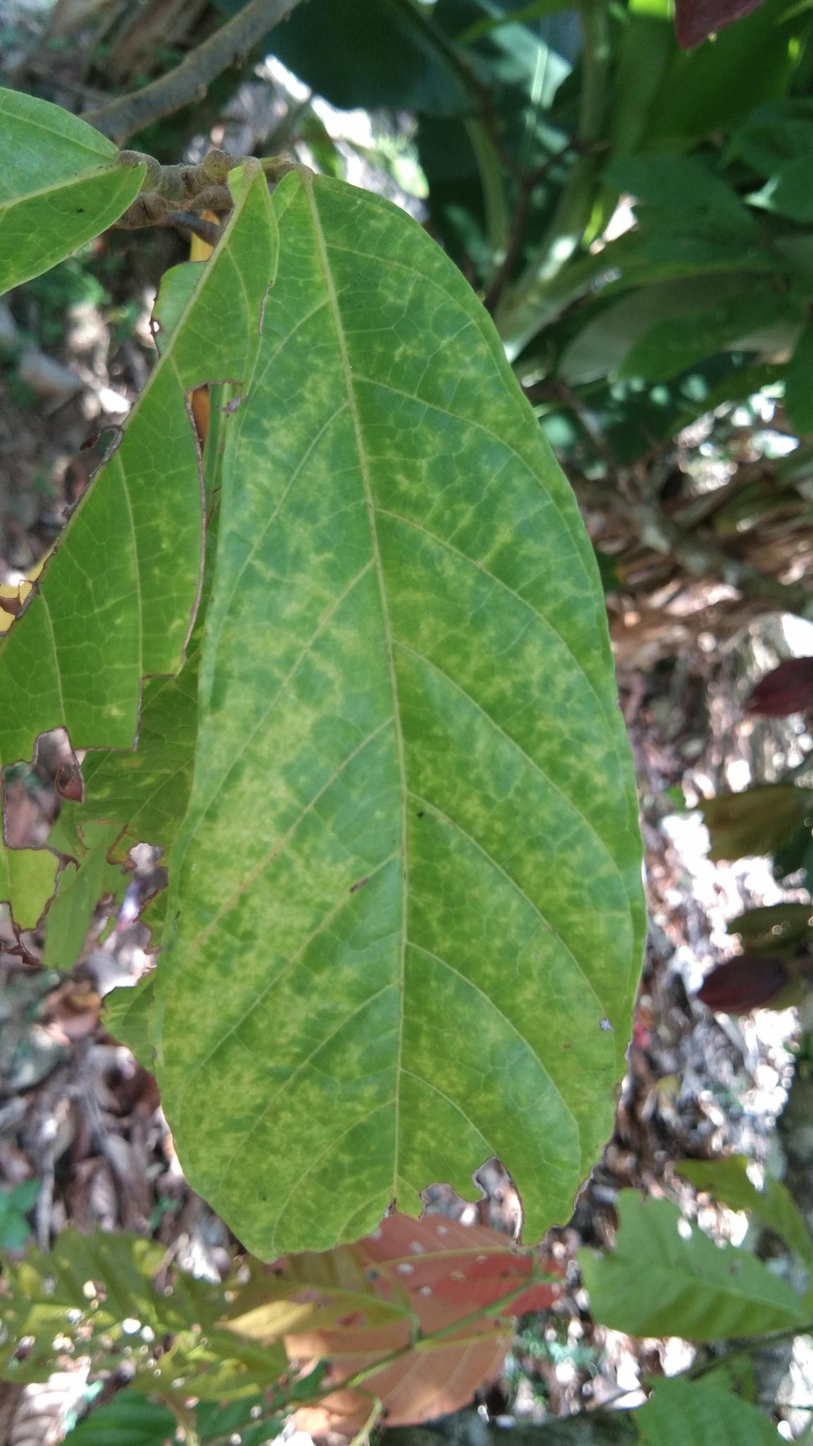Fosforo: (156, 123, 680, 1307)
